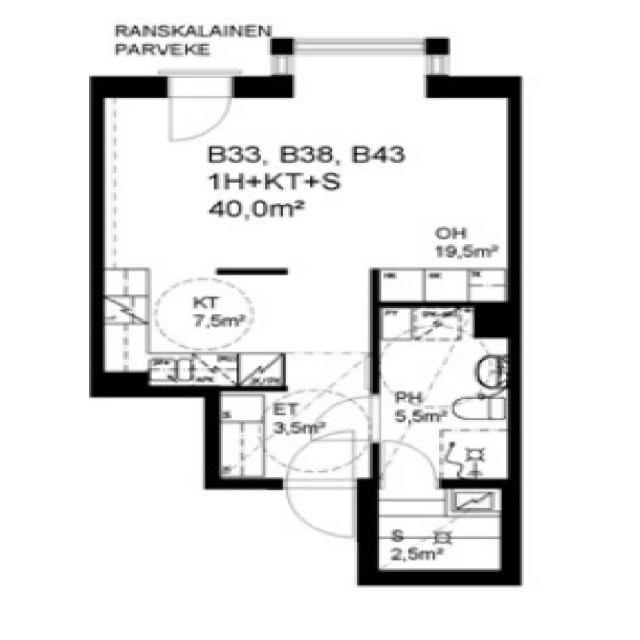door: (108, 54, 515, 288), (274, 427, 356, 541), (162, 76, 236, 145), (376, 438, 447, 493), (311, 390, 386, 442)
window: (284, 29, 432, 61), (416, 48, 453, 87), (262, 49, 300, 86)
zone: (99, 272, 358, 389), (375, 328, 514, 487), (370, 485, 509, 577)
